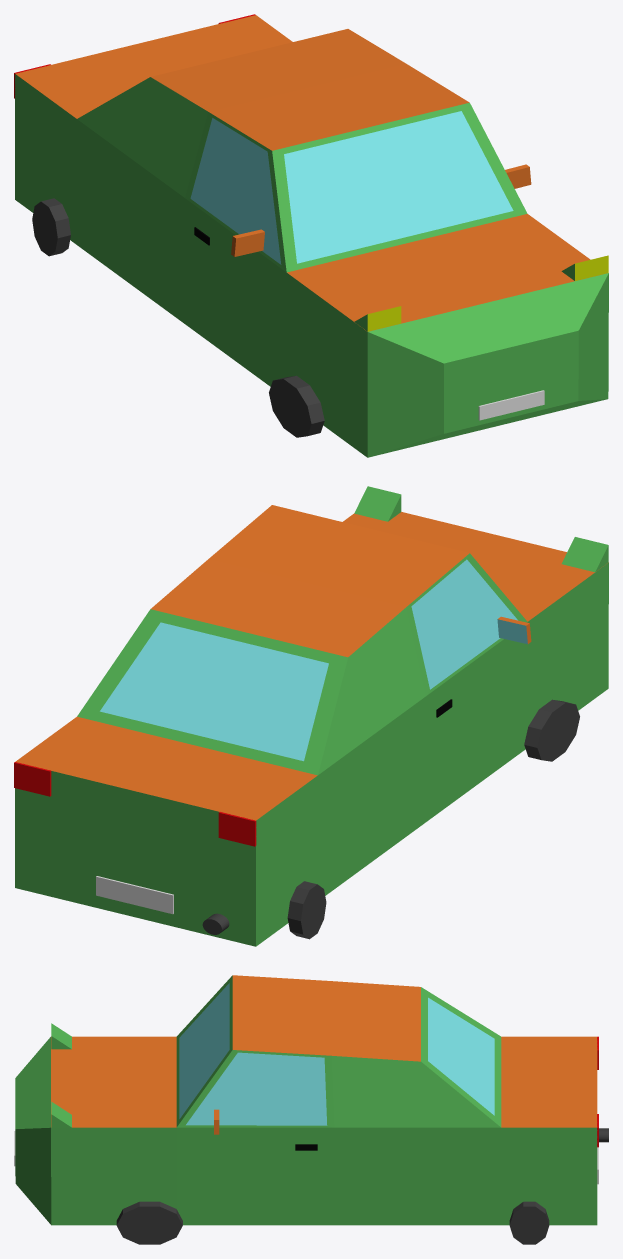
The model's file is car.gltf.
3 renders of one model, top to bottom at view 1: azimuth 30°, elevation 25°; view 2: azimuth 150°, elevation 25°; view 3: azimuth 270°, elevation 25°, orthographic. The views are drawn at different scales.
Visible parts, largest first — view 1: up2, front, Cube, back, right wheel front, right wheel back, license front, right light front, left light front, right mirror; view 2: up2, back, Cube, front, right wheel front, right wheel back, license, left light front, right light front, right light back, left light back, right mirror; view 3: up2, Cube, front, back, left wheel front, left wheel back, right light front, left light front.
Boxes of the visible parts, x1,y1,x2,y2 form: up2: [77, 29, 527, 272]; front: [286, 214, 608, 457]; Cube: [77, 120, 286, 386]; back: [15, 15, 292, 245]; right wheel front: [269, 375, 324, 437]; right wheel back: [32, 198, 70, 256]; license front: [478, 390, 544, 420]; right light front: [354, 306, 401, 331]; left light front: [561, 255, 608, 280]; right mirror: [231, 229, 264, 256]; up2: [77, 505, 527, 775]; back: [15, 716, 318, 946]; Cube: [318, 639, 527, 895]; front: [343, 512, 608, 729]; right wheel front: [524, 699, 579, 761]; right wheel back: [287, 881, 326, 939]; license: [96, 876, 173, 914]; left light front: [354, 486, 401, 521]; right light front: [561, 537, 608, 572]; right light back: [218, 812, 256, 846]; left light back: [14, 762, 51, 796]; right mirror: [497, 616, 531, 644]; up2: [176, 975, 501, 1127]; Cube: [177, 1127, 500, 1225]; front: [15, 1036, 177, 1225]; back: [500, 1036, 597, 1225]; left wheel front: [116, 1201, 182, 1244]; left wheel back: [509, 1201, 549, 1244]; right light front: [51, 1023, 71, 1049]; left light front: [51, 1101, 71, 1127].
Size of the model in its own units: 2.46 by 1.86 by 5.52.
